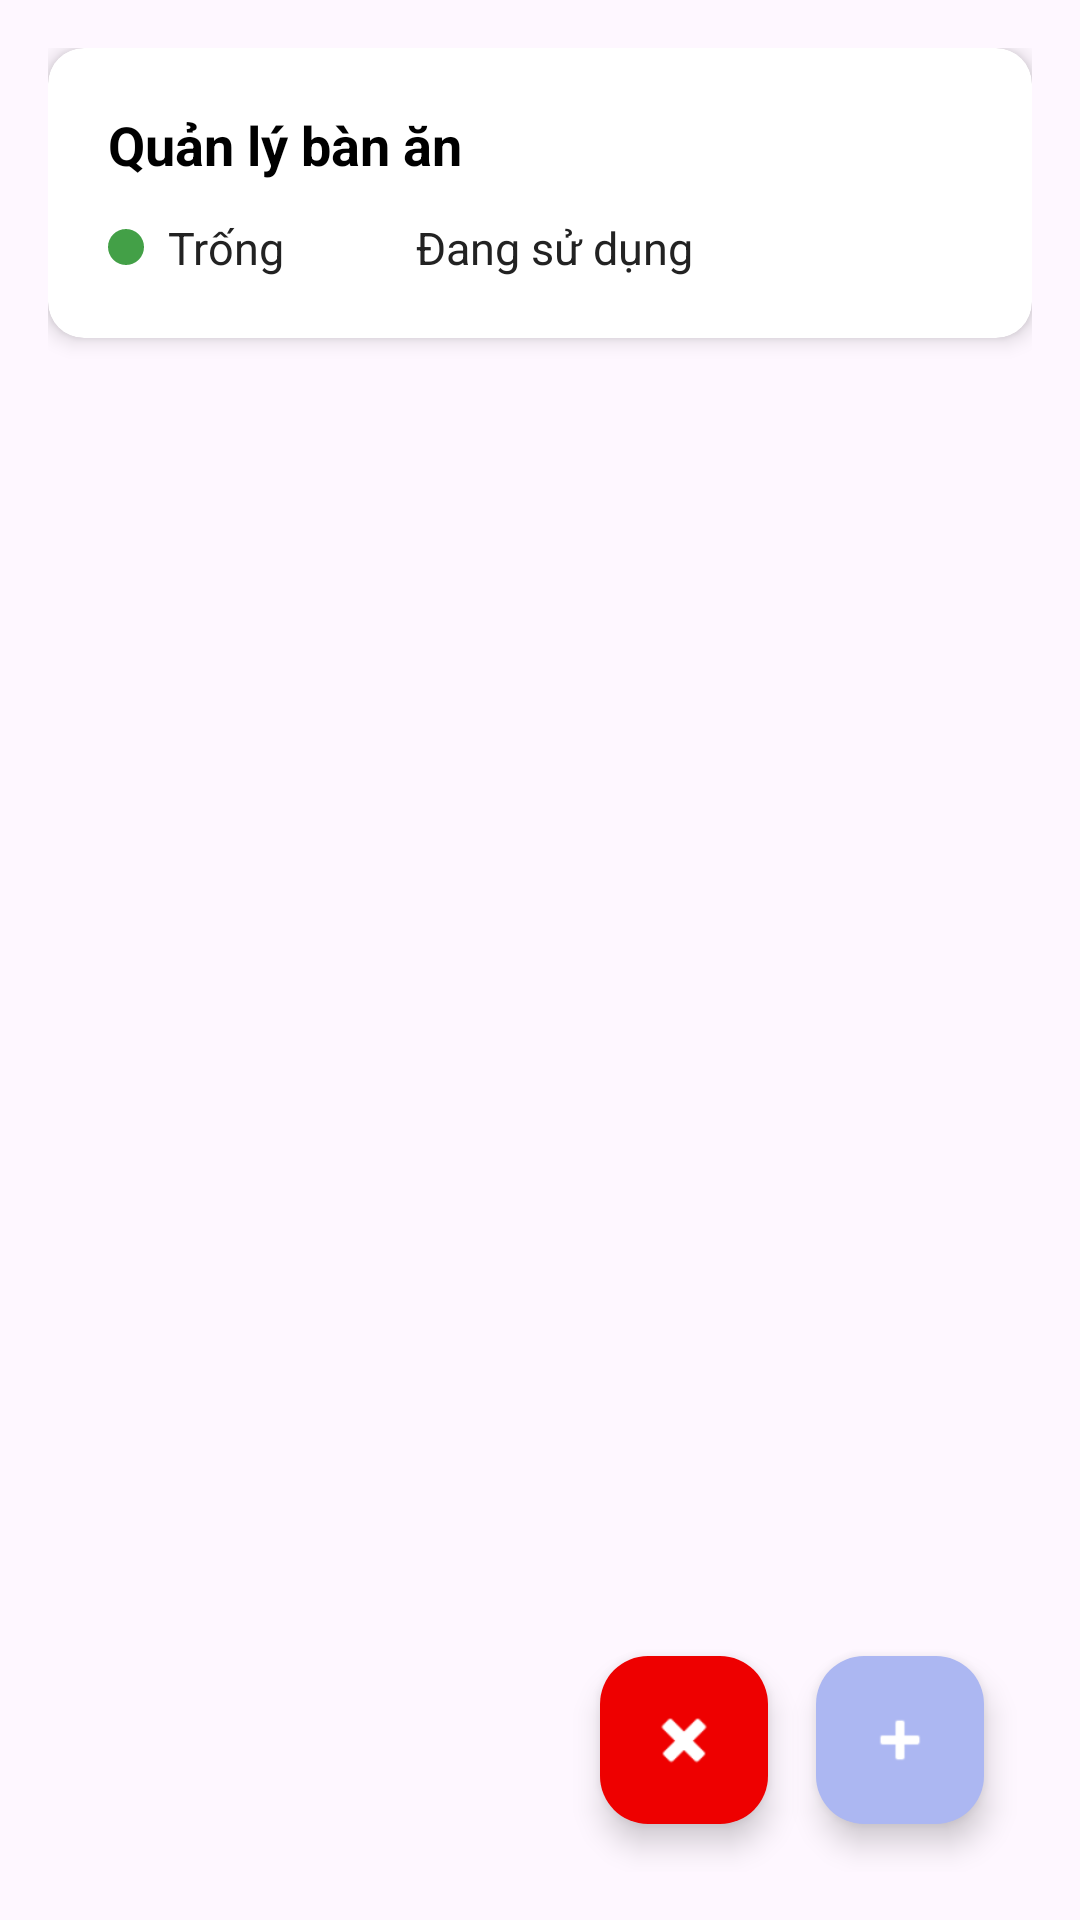

Where to tap for icons on this 1080 × 1920 app screen, as (x=x, y=y):
Thêm bàn: (x=900, y=1740)
Xóa bàn: (x=684, y=1740)
